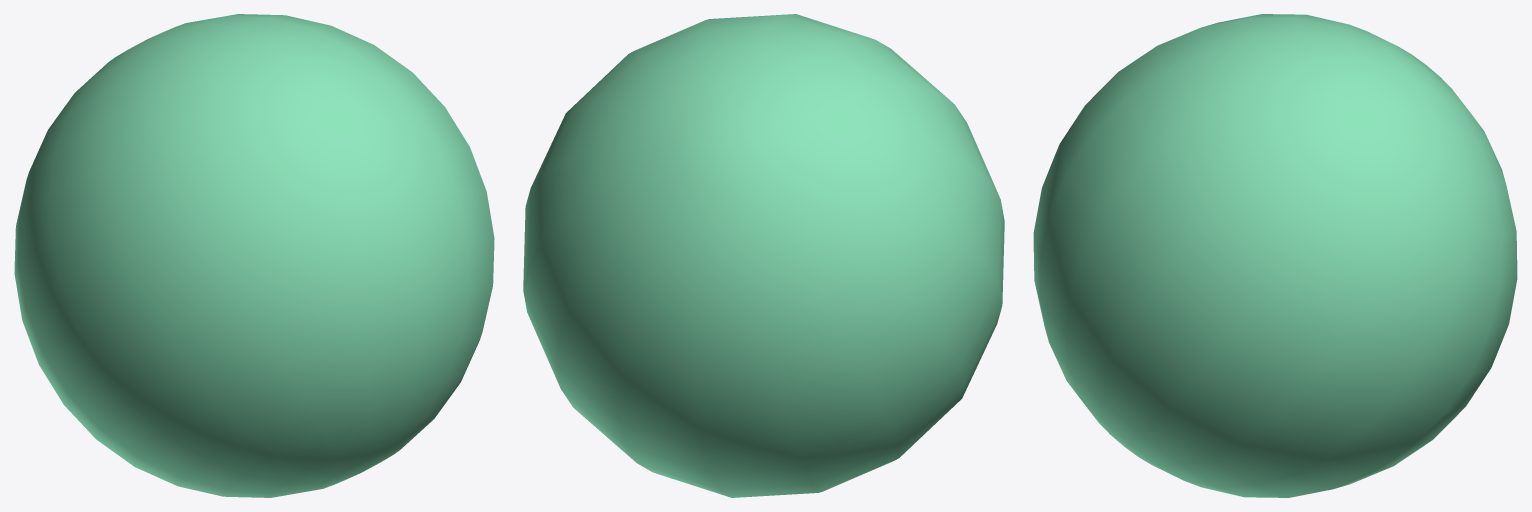
The picture shows the model from 3 angles, left to right: view 1: azimuth 30°, elevation 25°; view 2: azimuth 150°, elevation 25°; view 3: azimuth 270°, elevation 25°; orthographic projection.
Parts seen in each view (by area): view 1: orb4.003; view 2: orb4.003; view 3: orb4.003.
Boxes of the visible parts, box(x1,y1,x2,y2) form: orb4.003: box(14, 14, 494, 497); orb4.003: box(523, 14, 1004, 497); orb4.003: box(1033, 14, 1517, 497).
Size of the model in its own units: 0.3929 by 0.3982 by 0.3978.
